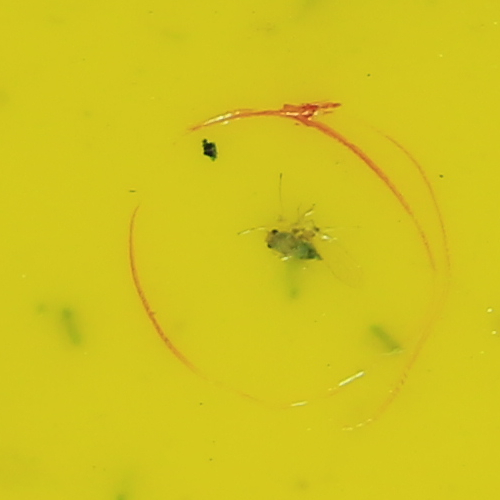Glycaspis: (261, 222, 327, 270)
